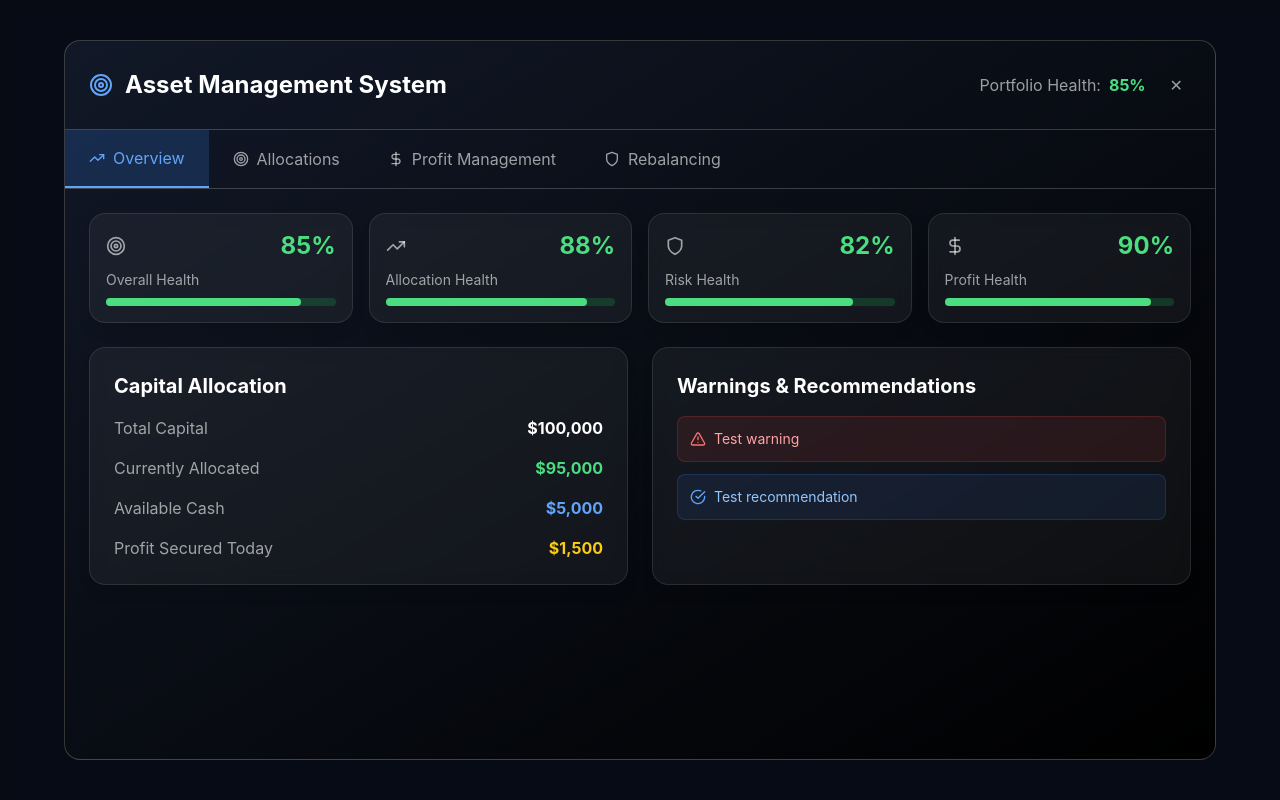
Scenario: AssetManagerPanel › displays allocation table with correct data
Click the button "Allocations".
click(286, 159)  # box [208, 130, 364, 188]
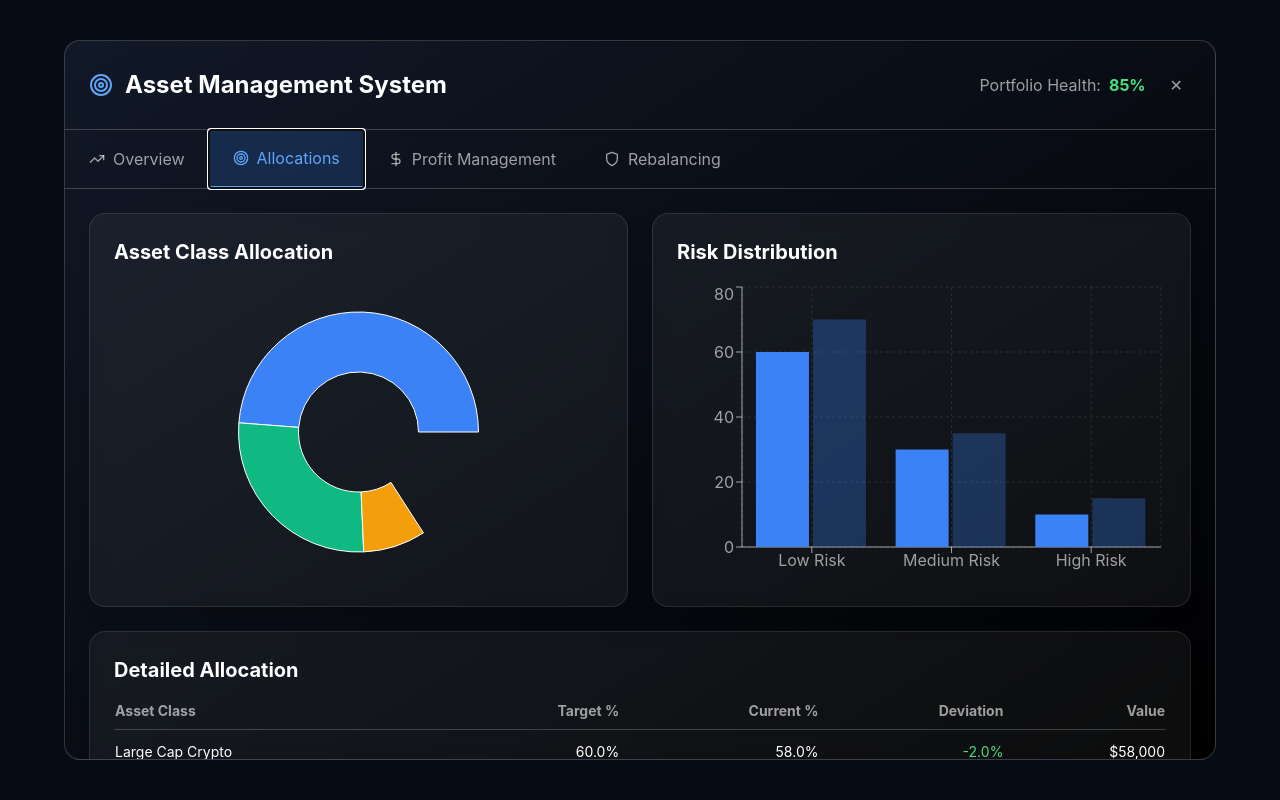
Check: the text "Large Cap Crypto" is shown, box [114, 730, 444, 760]
Check: the text "60.0%" is shown, box [444, 730, 620, 760]
Check: the text "58.0%" is shown, box [620, 730, 820, 760]
